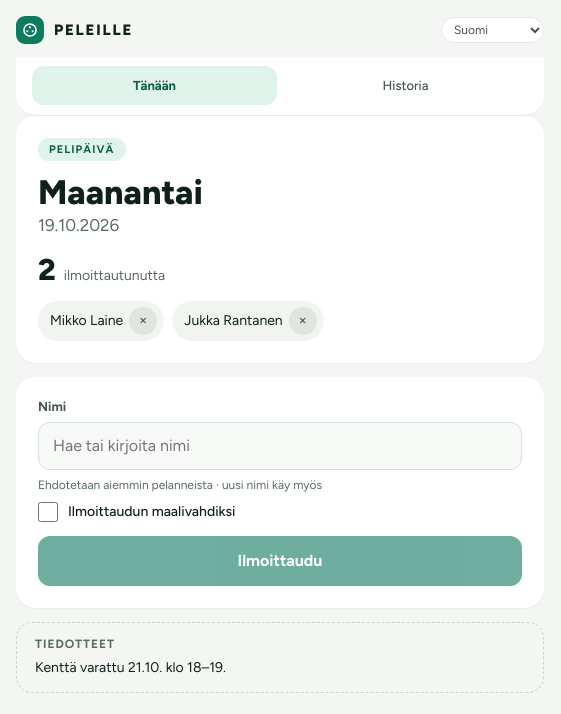
removing a name asks first › cancelling removes nothing and puts the chip back
What coordinates should you click on to do the following:
click the button named "Poista Mikko Laine"
I would click on:
 (143, 321)
Its box is [129, 307, 157, 335].
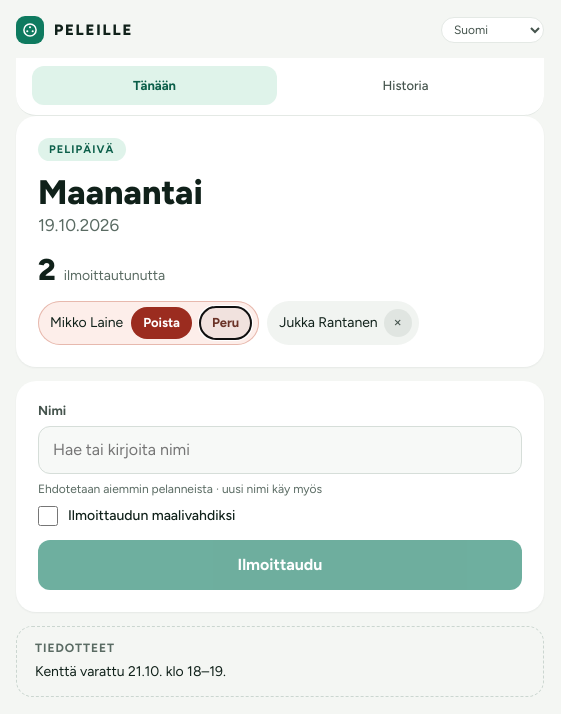
What coordinates should you click on to do the following:
click the button "Peru"
I would click on:
 (226, 323)
Its box is [200, 307, 251, 339].
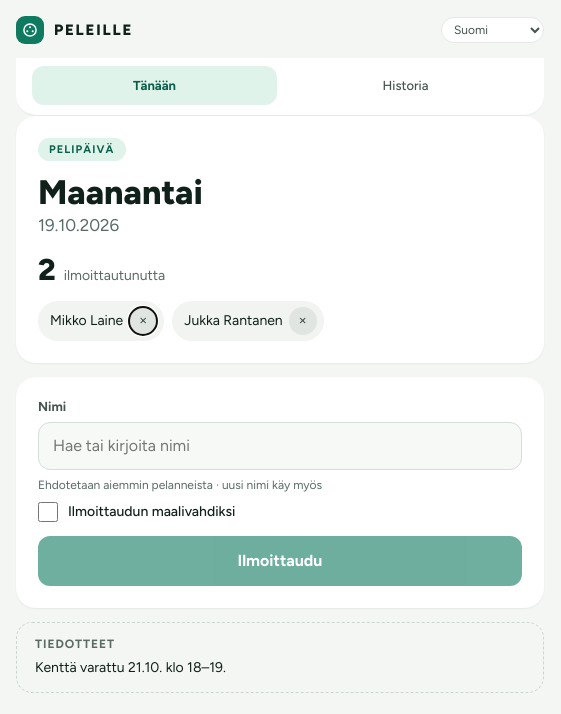
Expected: the button named "Poista Mikko Laine" is shown, [129, 307, 157, 335]
